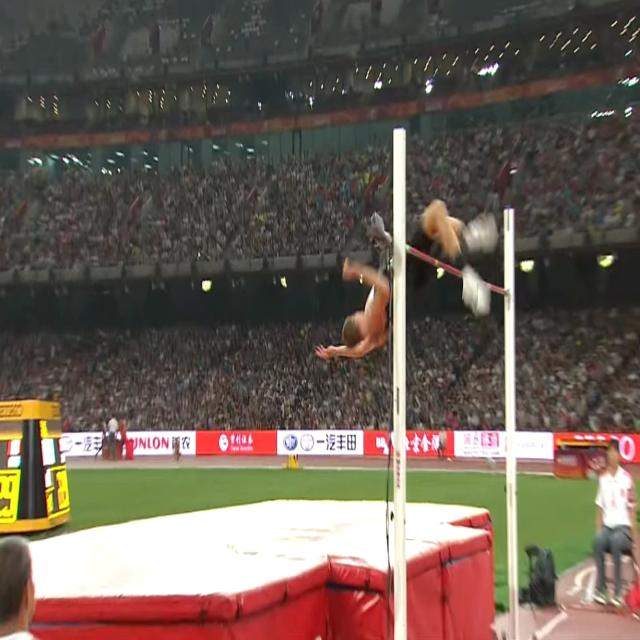jump: (317, 199, 495, 361)
